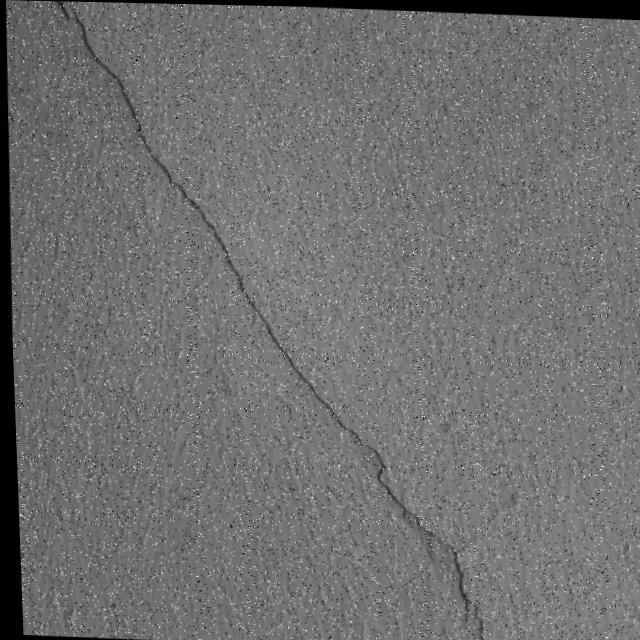Crack: (36, 1, 519, 640)
